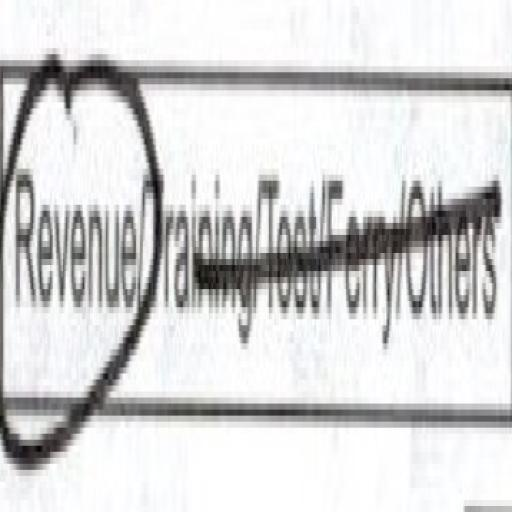check: (0, 0, 141, 490)
